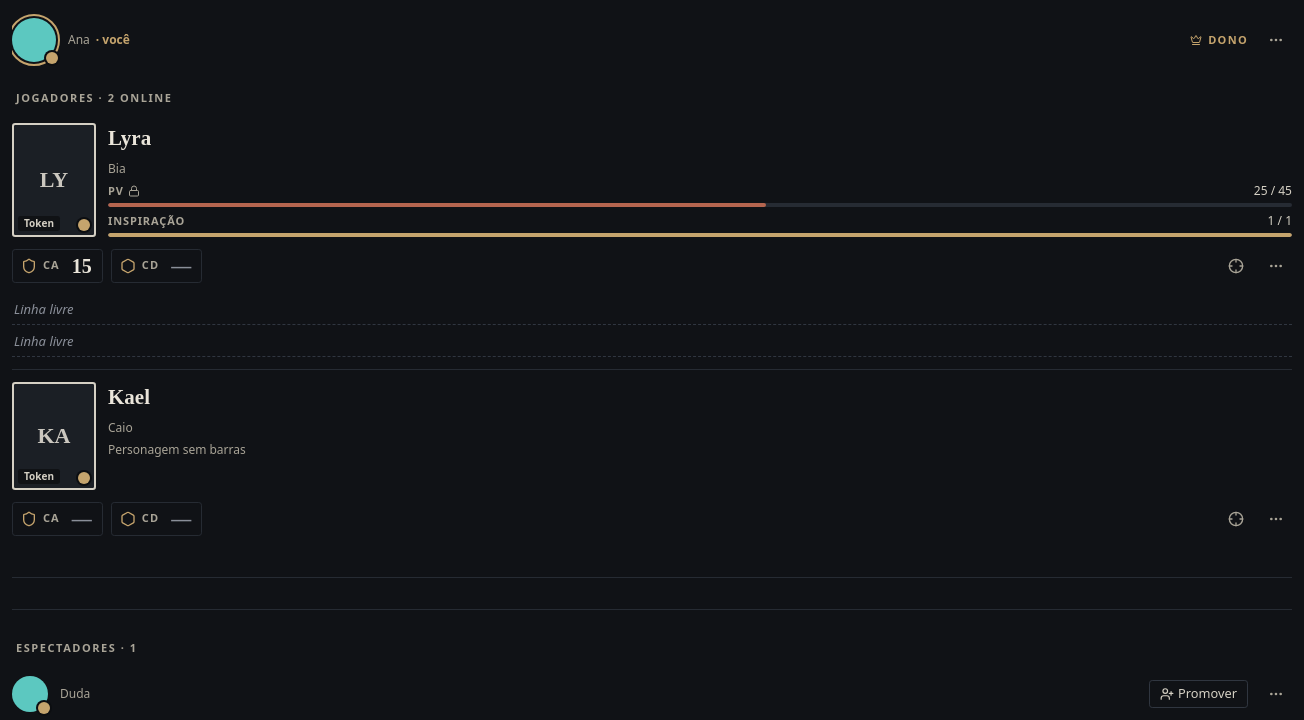
SessionPresencePanel › spectators and roles › a refused promotion shows the reason in the row
The image size is (1304, 720).
(page scrolled)
Click the button with aria-label "Promover Duda a jogador". click: (1198, 694)
box: 1149,680 -> 1248,708
(page scrolled)
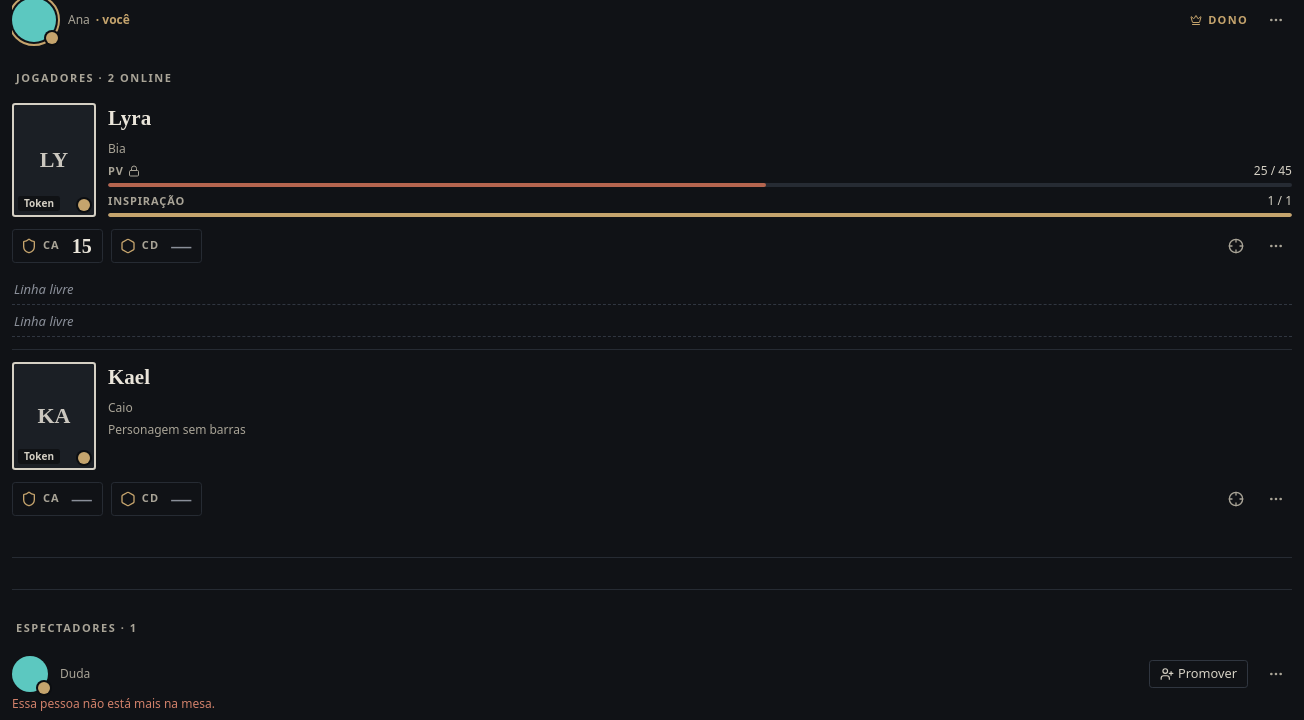
Result: the message reads "Essa pessoa não está mais na mesa." at 12,695 -> 215,712
